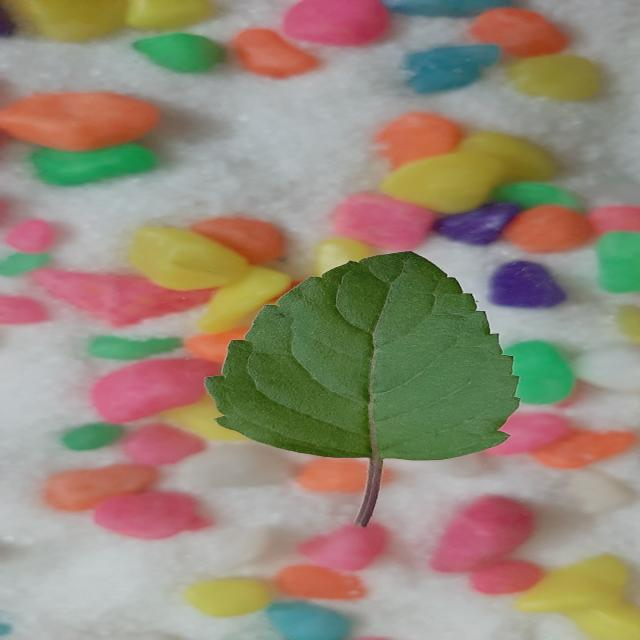defectedtulsi: (276, 252, 509, 394)
tulsi: (206, 252, 518, 525)
